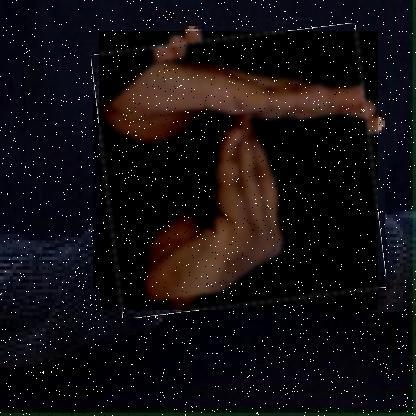Z: (99, 31, 379, 311)
